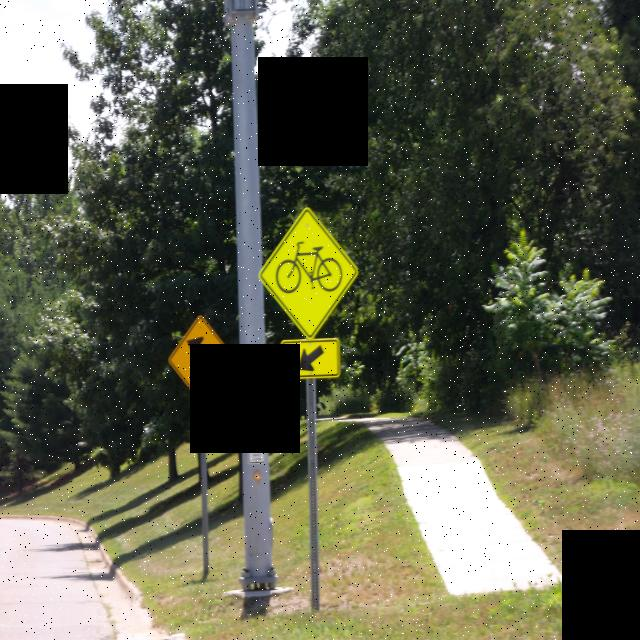warning: (255, 206, 359, 338), (168, 317, 235, 403), (278, 337, 342, 382)
